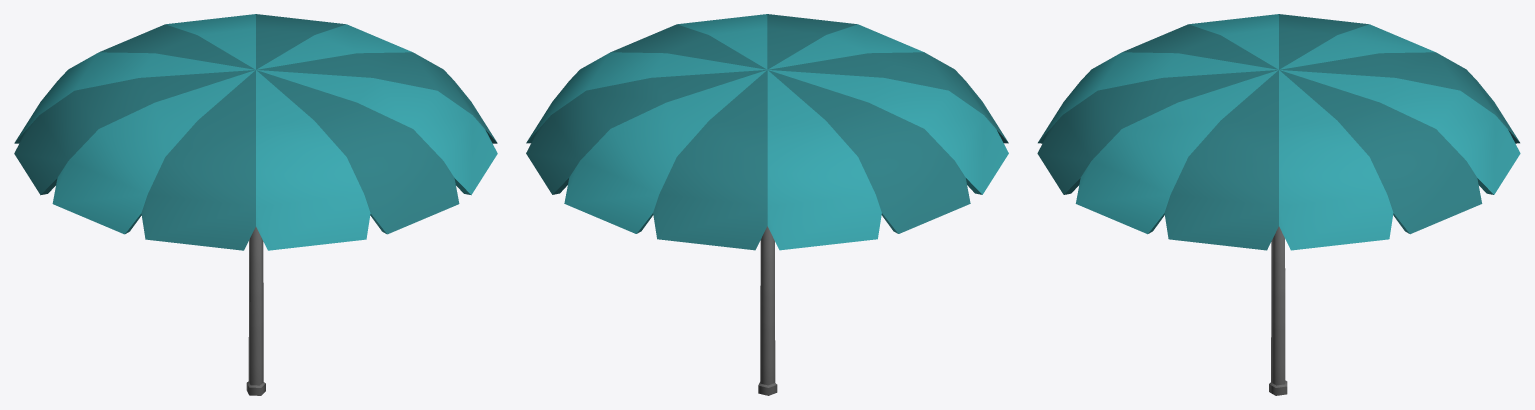
The model's file is Parasol_1_C.fbx.
The picture shows the model from 3 angles, left to right: view 1: azimuth 30°, elevation 25°; view 2: azimuth 150°, elevation 25°; view 3: azimuth 270°, elevation 25°; orthographic projection.
Parts seen in each view (by area): view 1: Parasol_1_C; view 2: Parasol_1_C; view 3: Parasol_1_C.
Boxes of the visible parts, box(x1,y1,x2,y2) form: Parasol_1_C: box(14, 14, 497, 395); Parasol_1_C: box(526, 14, 1008, 395); Parasol_1_C: box(1037, 14, 1520, 395).
Bounding box in the file's own units: 222 × 163 × 222.
